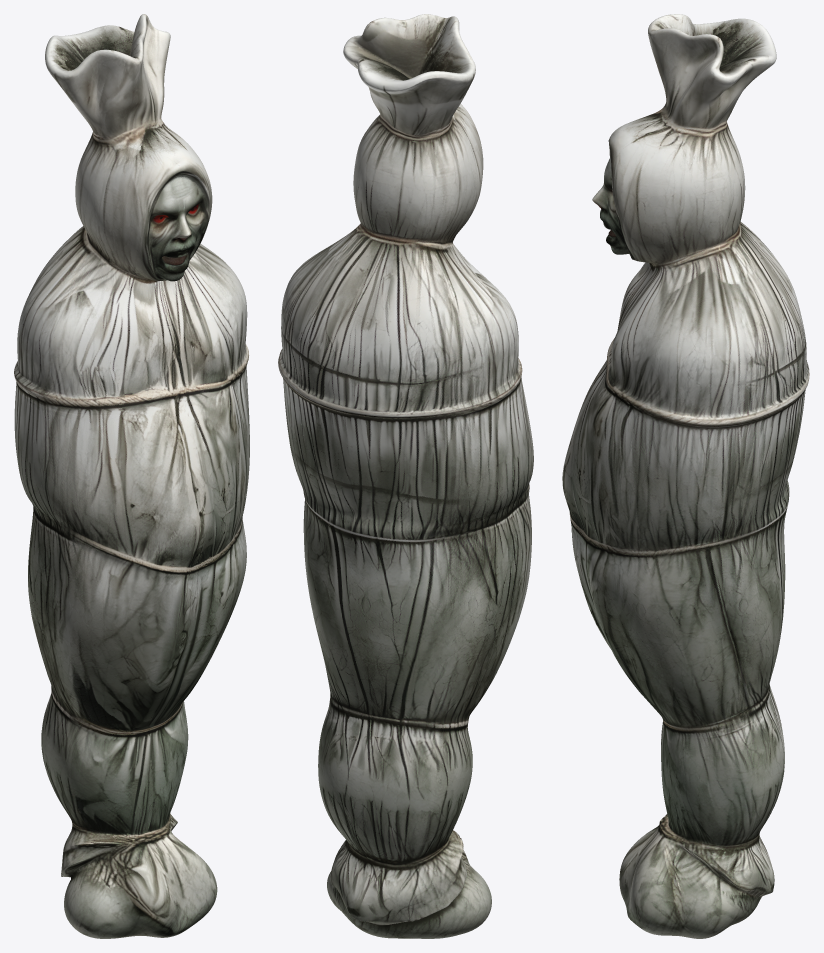
File: Meshy_AI_The_Bundled_0624020111_texture.fbx
The picture shows the model from 3 angles, left to right: view 1: azimuth 30°, elevation 25°; view 2: azimuth 150°, elevation 25°; view 3: azimuth 270°, elevation 25°; orthographic projection.
Visible parts, largest first — view 1: Mesh_0.001; view 2: Mesh_0.001; view 3: Mesh_0.001.
Part boxes in pixels (bbox=[...]): Mesh_0.001: bbox=[14, 14, 249, 938]; Mesh_0.001: bbox=[278, 14, 533, 938]; Mesh_0.001: bbox=[562, 14, 809, 938].
Size of the model in its own units: 45.9 by 180 by 45.12.
Materials: 1 (1 with a texture image).
